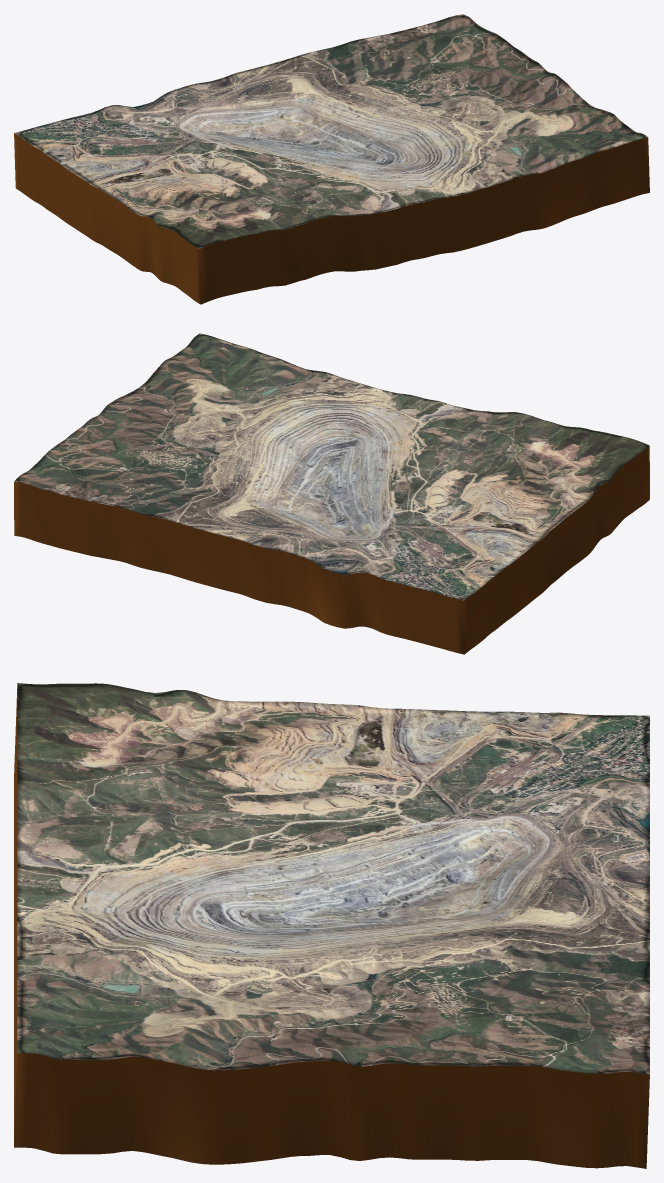
3 renders of one model, top to bottom at view 1: azimuth 30°, elevation 25°; view 2: azimuth 150°, elevation 25°; view 3: azimuth 270°, elevation 25°, orthographic. The views are drawn at different scales.
Parts seen in each view (by area): view 1: EXPORT_GOOGLE_SAT_WM; view 2: EXPORT_GOOGLE_SAT_WM; view 3: EXPORT_GOOGLE_SAT_WM.
Part boxes in pixels (x1,y1,x2,y2): EXPORT_GOOGLE_SAT_WM: [14, 14, 649, 304]; EXPORT_GOOGLE_SAT_WM: [14, 333, 649, 654]; EXPORT_GOOGLE_SAT_WM: [14, 683, 649, 1168].
Size of the model in its own units: 8575 by 1566 by 6148.
Materials: 2 (1 with a texture image).
